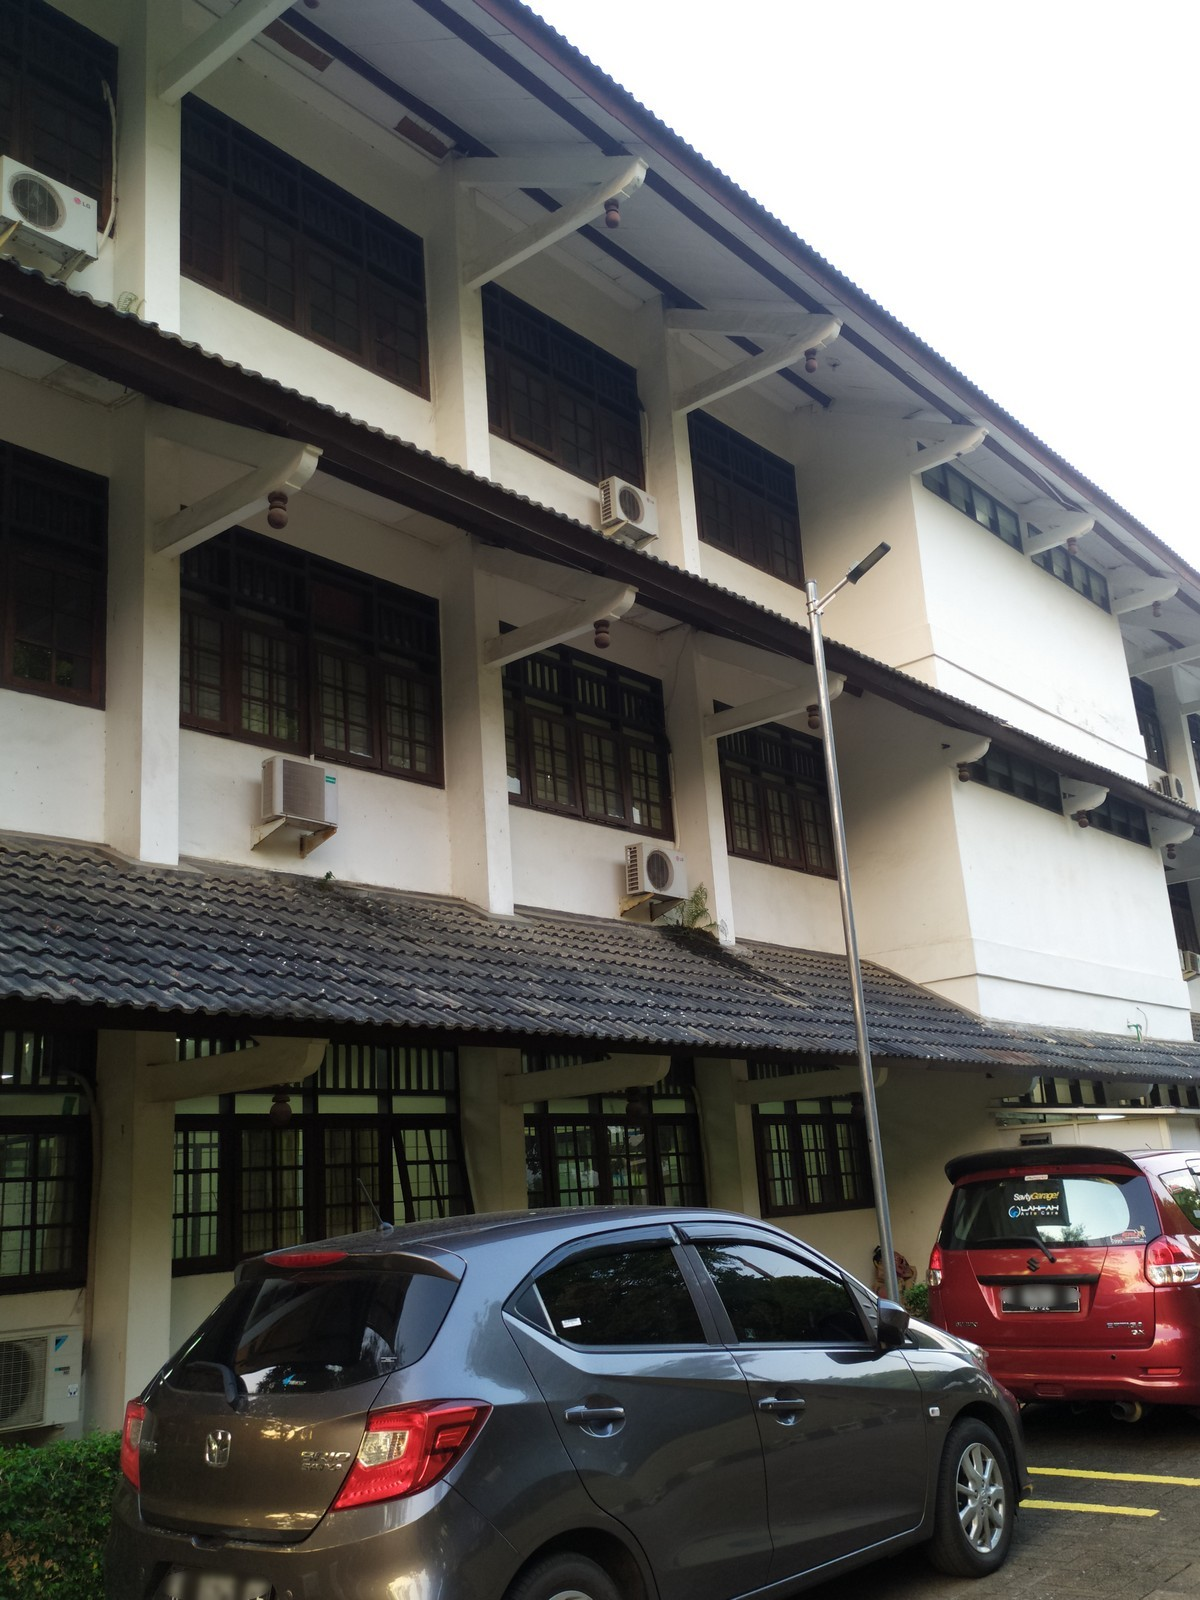concrete beam: (458, 212, 601, 299), (142, 477, 268, 567), (668, 351, 780, 420), (480, 609, 604, 669)
concrete column: (96, 401, 200, 863), (84, 1034, 184, 1415), (429, 544, 522, 920), (106, 3, 194, 320), (658, 641, 749, 946), (417, 163, 495, 457), (634, 312, 706, 564)
